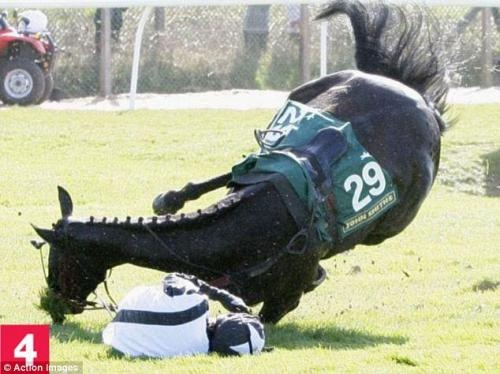falling: (101, 260, 283, 361)
